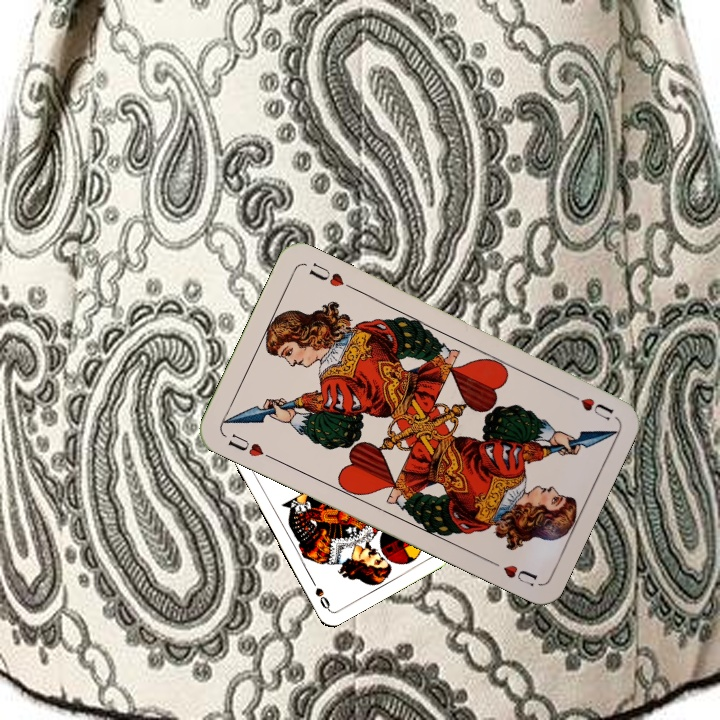HU: (562, 387, 616, 424), (224, 429, 276, 463)
